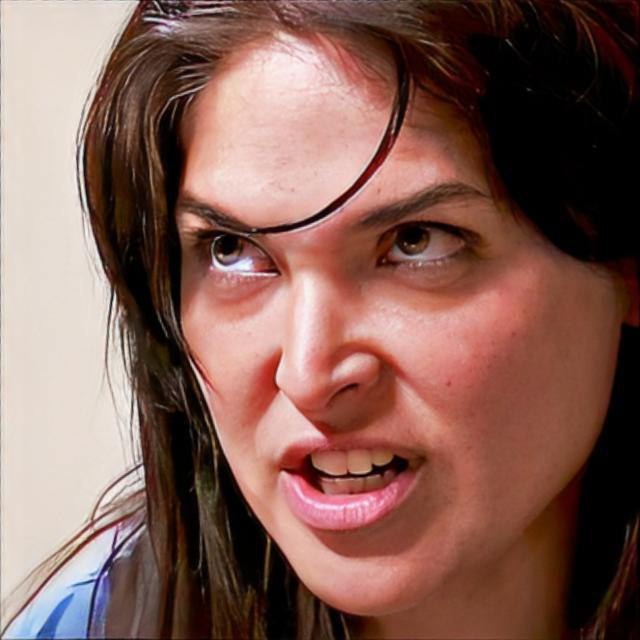anger: (171, 31, 597, 616)
